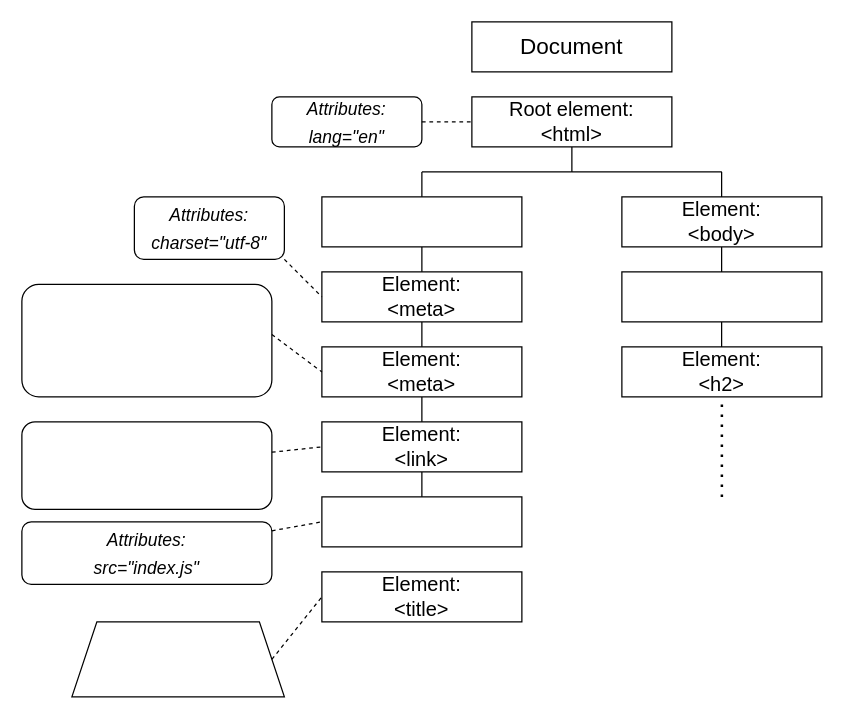
The diagram is 844 pixels wide and 719 high, and some of its shapes have lost their labels. The shapes that lost their labels are listed below. From the top down, each one's centre as x and y in pixels, then its label:
[421,221]: Element: <head>
[721,296]: Element: <h1>
[146,340]: Attributes: name="viewport" content="width=device-width, initial-scale=1"
[146,465]: Attributes: rel="stylesheet" href="index.css"
[421,521]: Element: <script>
[177,659]: Text: "This is an example!"
